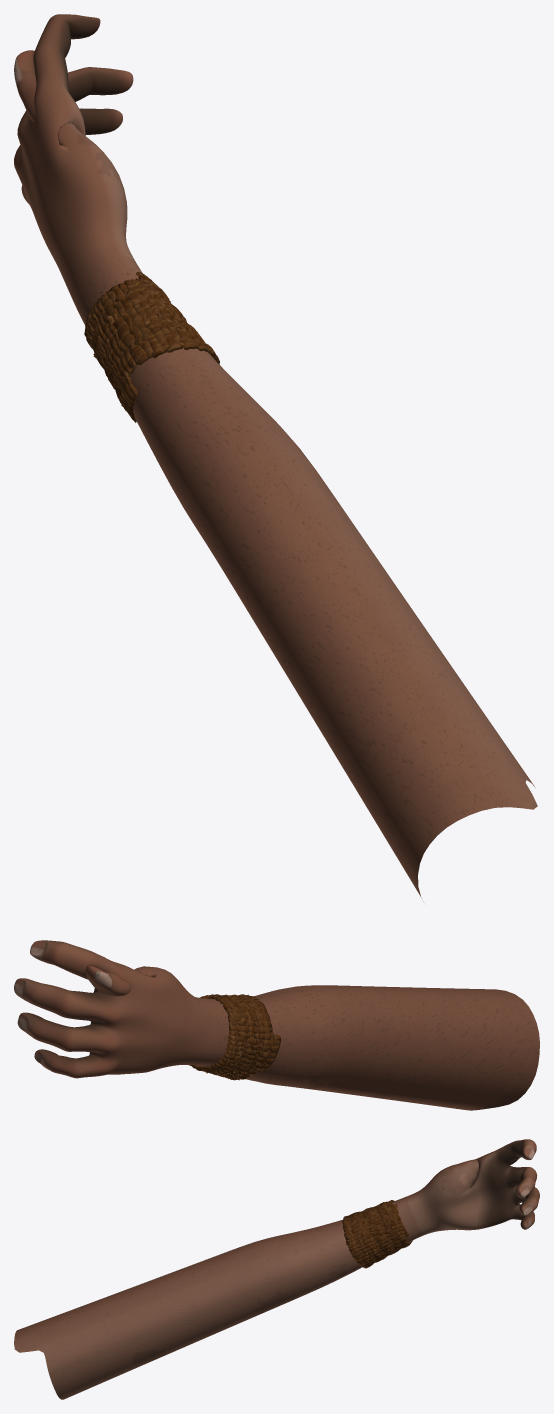
File: SM_FP_Hand_L.gltf
3 views of the same model, one above another, from view 1: azimuth 30°, elevation 25°; view 2: azimuth 150°, elevation 25°; view 3: azimuth 270°, elevation 25° (orthographic). The views are drawn at different scales.
Visible parts, largest first — view 1: SM_FP_Hand_L, SM_FP_Wrap; view 2: SM_FP_Hand_L, SM_FP_Wrap; view 3: SM_FP_Hand_L, SM_FP_Wrap.
Boxes of the visible parts, x1,y1,x2,y2 form: SM_FP_Hand_L: (14, 14, 537, 901); SM_FP_Wrap: (84, 272, 219, 422); SM_FP_Hand_L: (14, 940, 539, 1110); SM_FP_Wrap: (188, 994, 280, 1080); SM_FP_Hand_L: (14, 1139, 539, 1399); SM_FP_Wrap: (342, 1200, 412, 1268).
Bounding box in the file's own units: 0.1315 × 0.3479 × 0.6148.
Materials: 2 (2 with a texture image).
